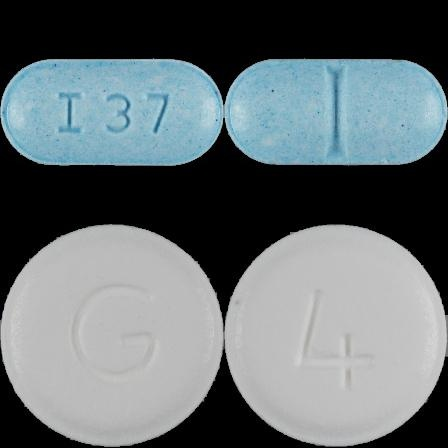45865-574: (0, 0, 224, 224)
